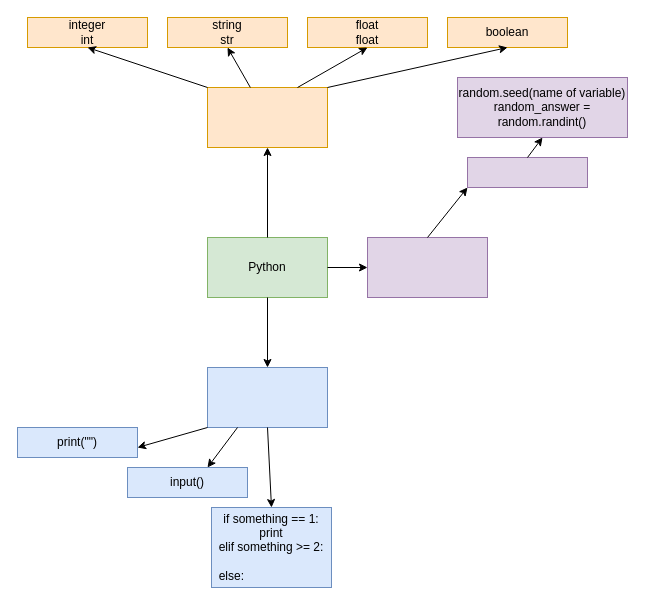
Image size: 645x605. Some labels were removed from this diagram. Here are the shapes that lost their labels. From the top down, the centre of each, then its label:
the point at 267,117: Data
the point at 527,172: Random import random
the point at 427,267: Modules
the point at 267,397: Functions
